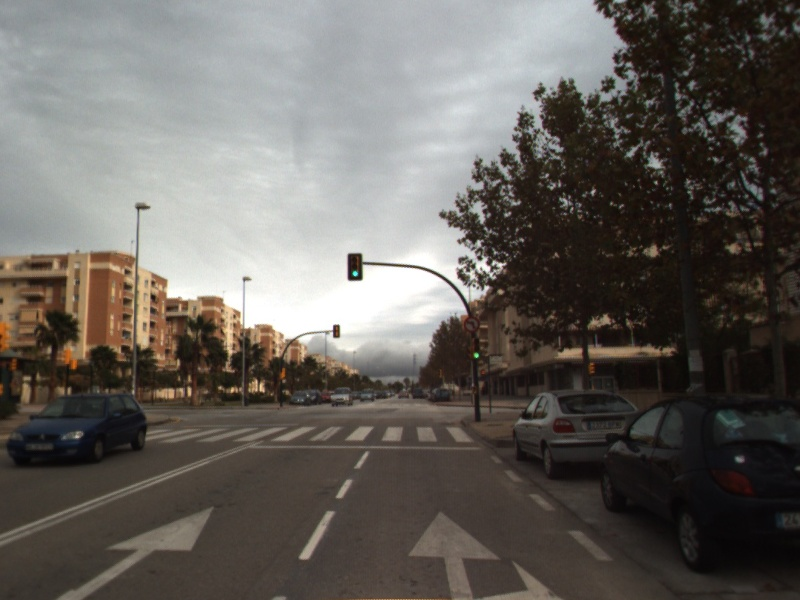STRAIGHT: (48, 503, 218, 600)
STRAIGHT_RIGHT: (403, 507, 570, 600)
